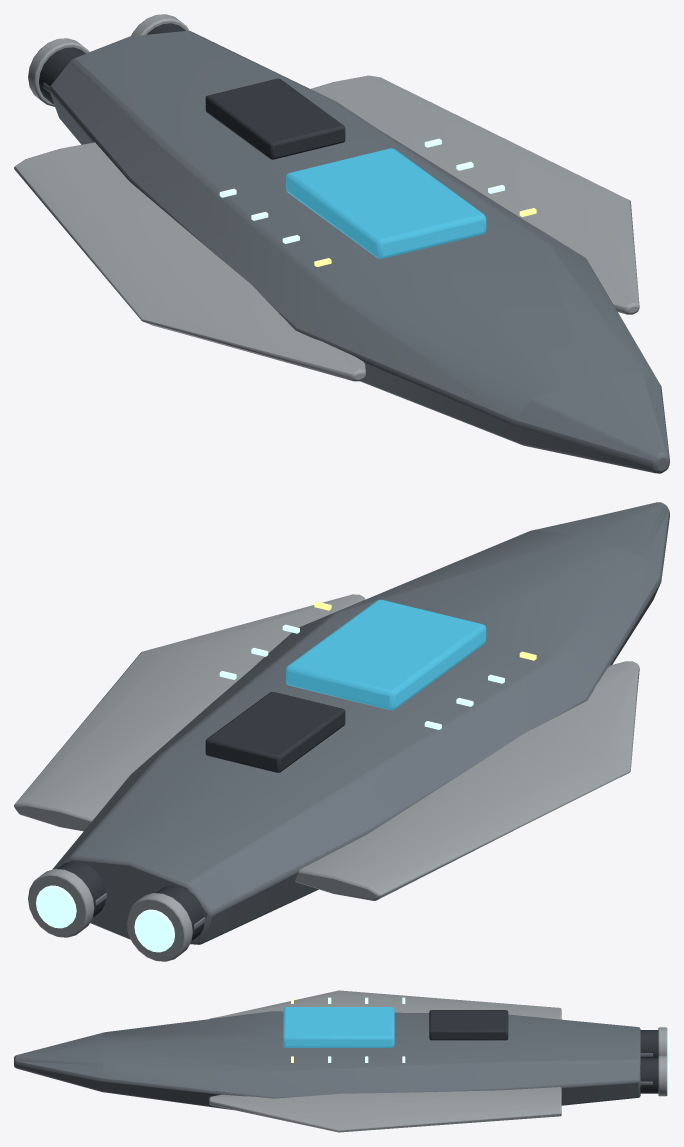
File: QW_EscortSpear_LOD0.fbx
The picture shows the model from 3 angles, top to bottom: view 1: azimuth 30°, elevation 25°; view 2: azimuth 150°, elevation 25°; view 3: azimuth 270°, elevation 25°; orthographic projection. The views are drawn at different scales.
Parts seen in each view (by area): view 1: QW_EscortSpear_LOD0; view 2: QW_EscortSpear_LOD0; view 3: QW_EscortSpear_LOD0.
Part boxes in pixels (x1,y1,x2,y2): QW_EscortSpear_LOD0: (14, 14, 669, 473); QW_EscortSpear_LOD0: (14, 502, 669, 961); QW_EscortSpear_LOD0: (14, 990, 669, 1132).
Size of the model in its own units: 7.16 by 1.71 by 14.13.
